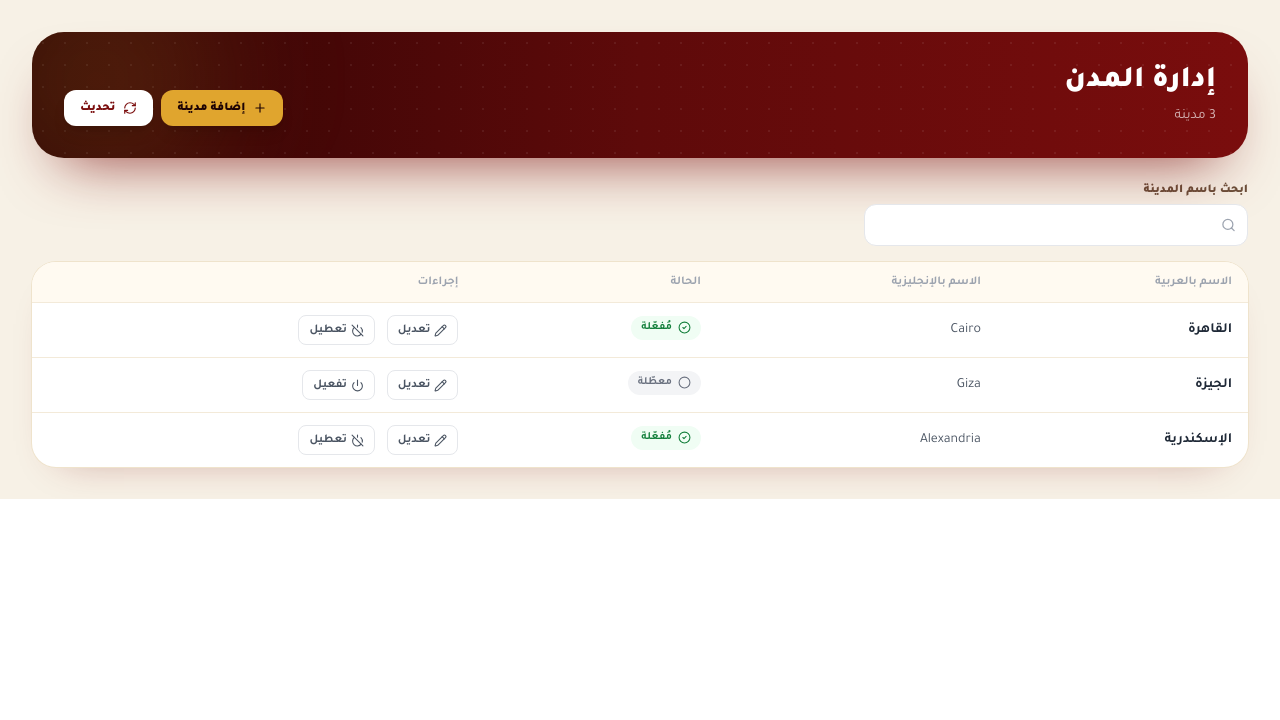
Test case: US1 — view the cities list and search › AC7: a term matching nothing shows the "no match" state, distinct from "no cities"
Expected: the text "القاهرة" is shown, 997,302 -> 1248,358
Type "zzzzz" into the field labelled "ابحث باسم المدينة" at (1056, 225), box 864,204 -> 1248,246
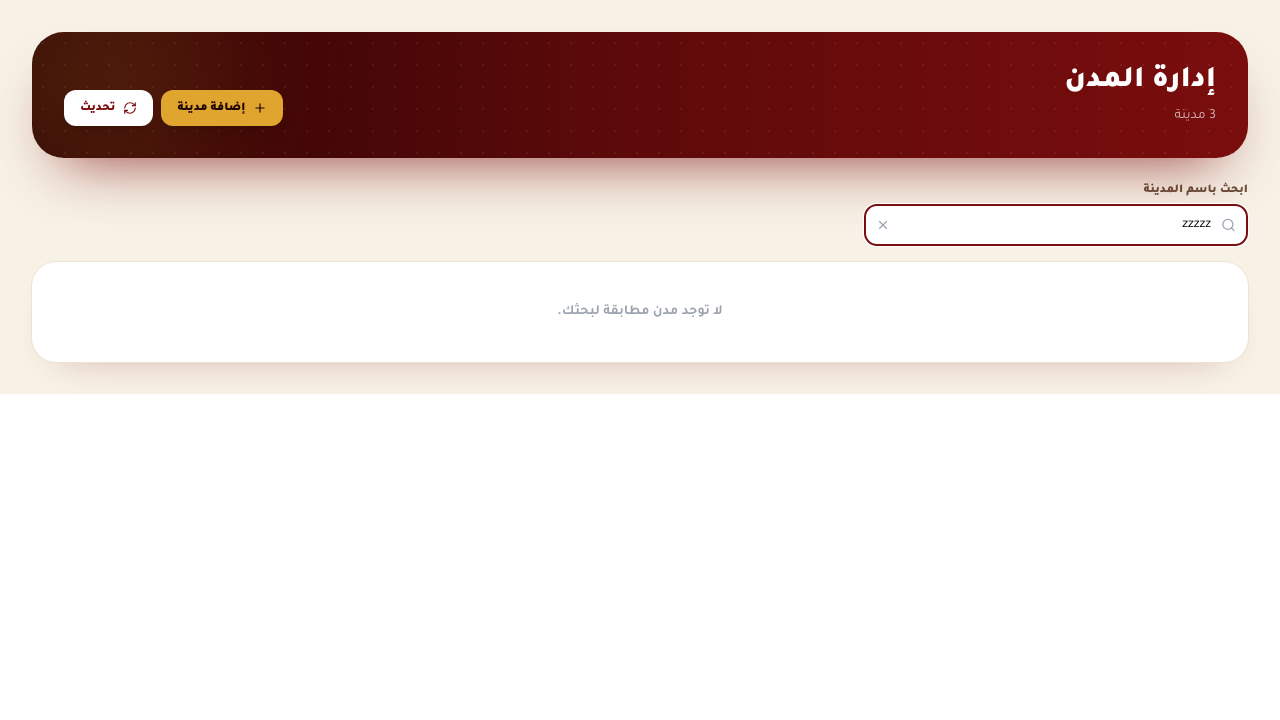
Now the text "لا توجد مدن مطابقة لبحثك." is shown, box 32,262 -> 1248,362
Now the column heading "الاسم بالعربية" is gone
